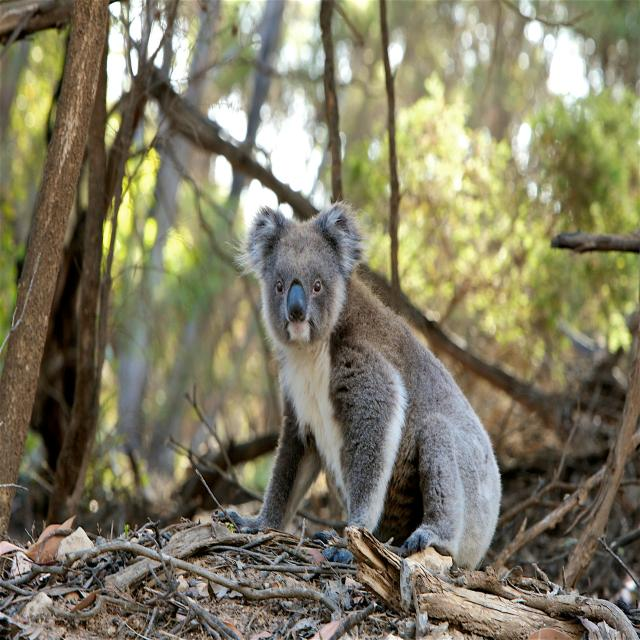Koala: (242, 199, 503, 589)
